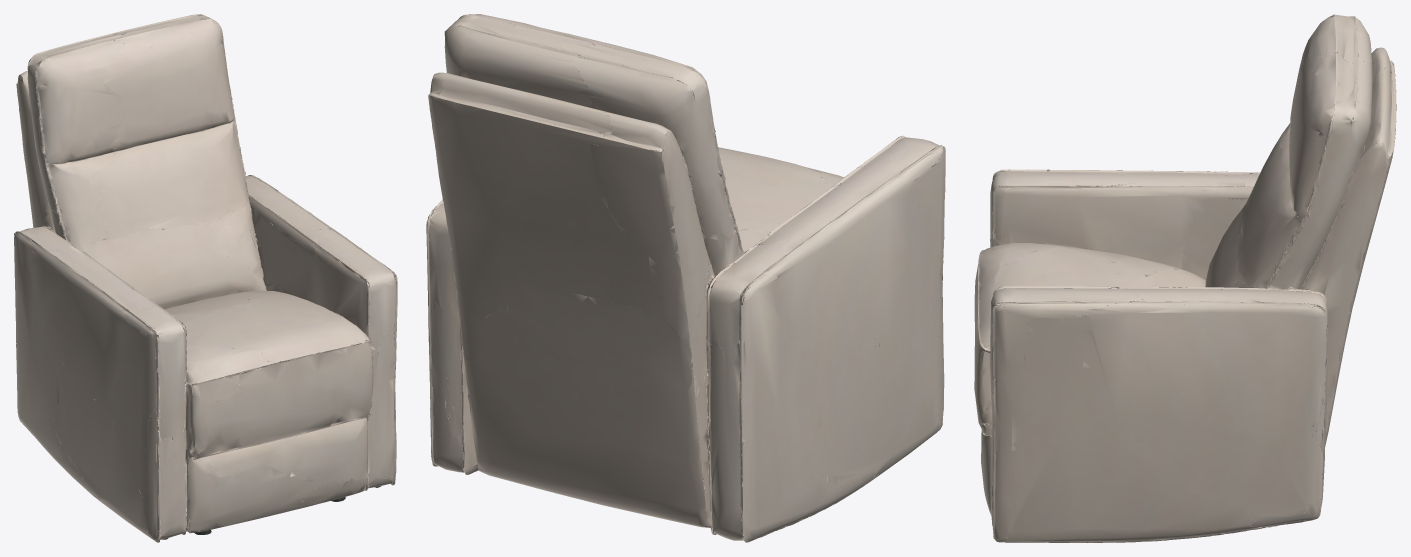
File: ikea-gryteryd-recliner-rocker-armchair-hakebo-beige-20613904.glb
3 views of the same model, side by side, from view 1: azimuth 30°, elevation 25°; view 2: azimuth 150°, elevation 25°; view 3: azimuth 270°, elevation 25° (orthographic). The views are drawn at different scales.
Parts seen in each view (by area): view 1: model; view 2: model; view 3: model.
Part boxes in pixels (x1,y1,x2,y2): model: (14, 14, 397, 542); model: (426, 14, 945, 542); model: (974, 14, 1396, 542).
Bounding box in the file's own units: 1.26 × 1.82 × 1.61.
1 material, 1 textured.
